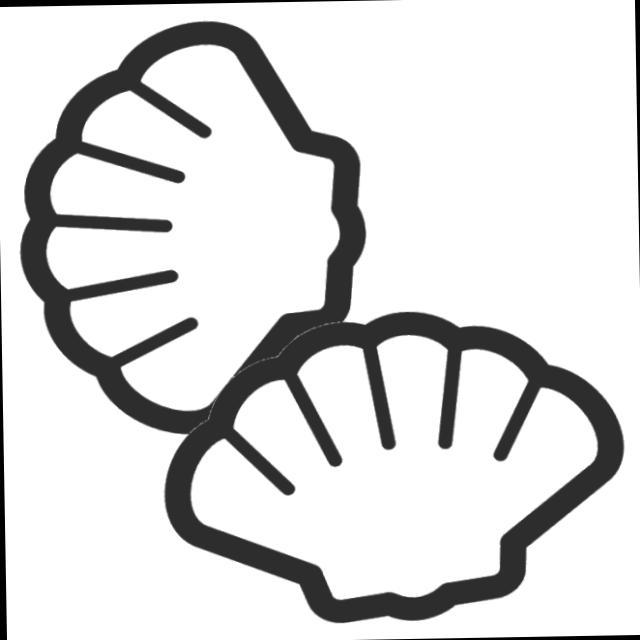shell: (152, 295, 640, 637), (10, 6, 382, 444)
